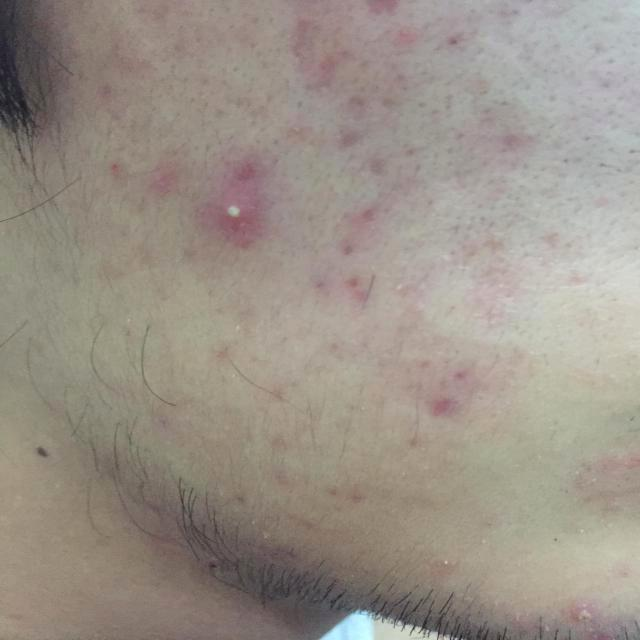Pimples: (202, 181, 267, 240)
